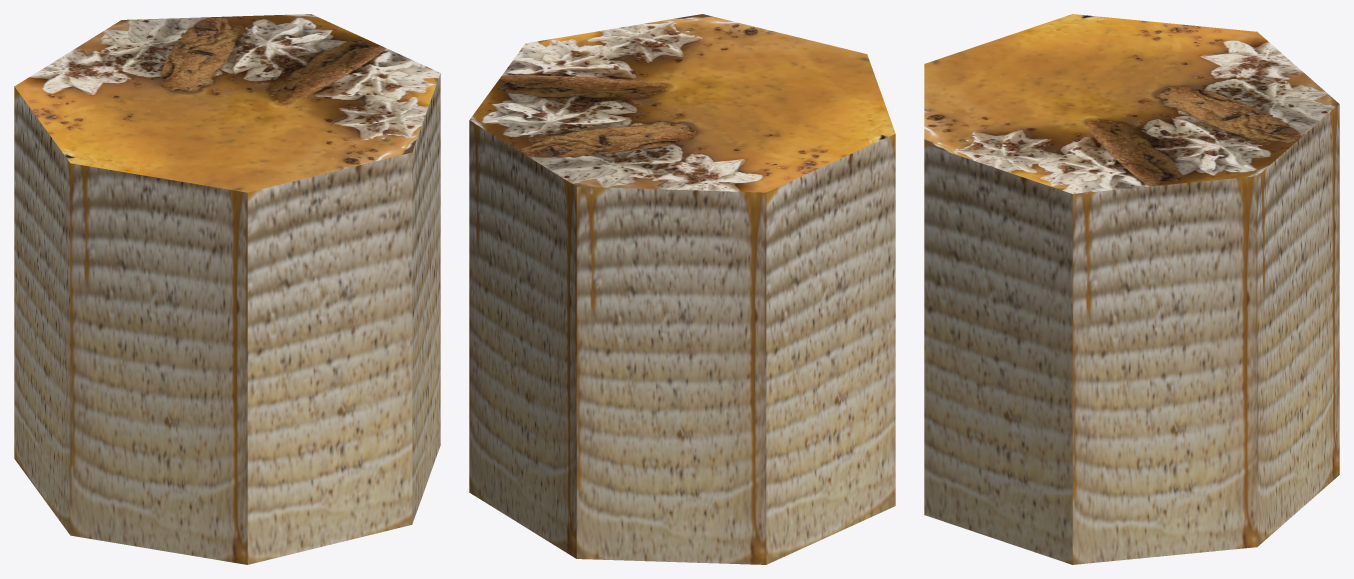
The model's file is cake.glb.
3 views of the same model, side by side, from view 1: azimuth 30°, elevation 25°; view 2: azimuth 150°, elevation 25°; view 3: azimuth 270°, elevation 25° (orthographic).
Parts seen in each view (by area): view 1: Cake; view 2: Cake; view 3: Cake.
Part boxes in pixels (x1,y1,x2,y2): Cake: [14, 14, 440, 564]; Cake: [469, 14, 895, 564]; Cake: [924, 14, 1339, 564].
Size of the model in its own units: 1.95 by 1.87 by 1.9.
1 material, 1 textured.
